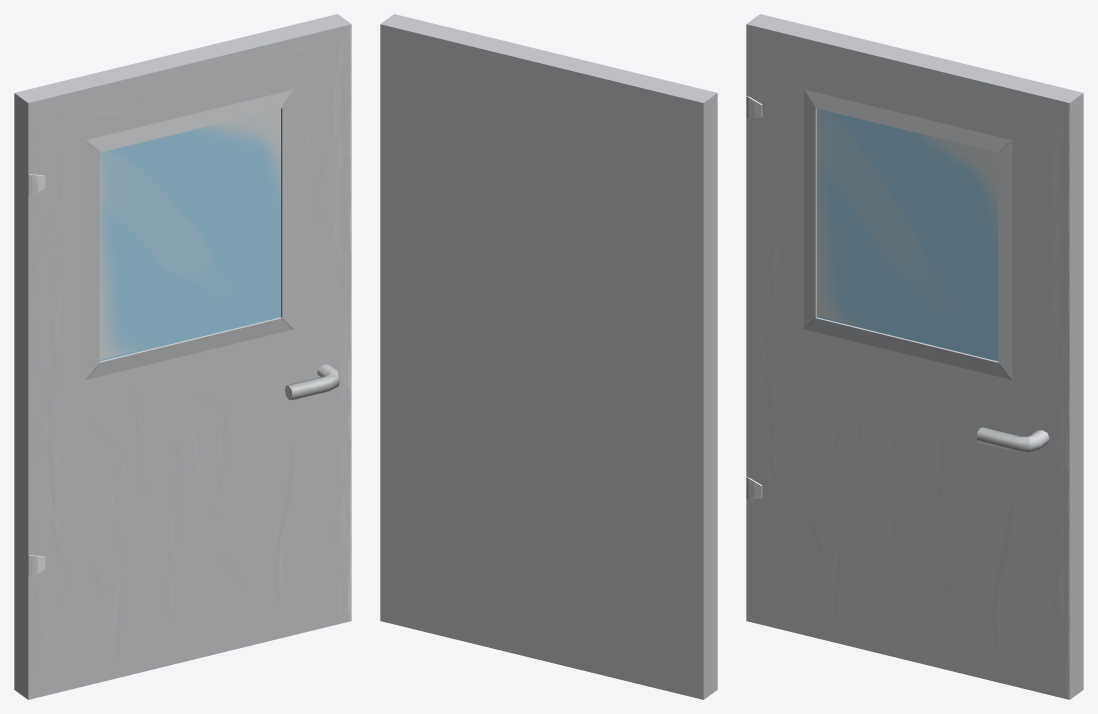
Rendered from industrial door.fbx.
3 views of the same model, side by side, from view 1: azimuth 30°, elevation 25°; view 2: azimuth 150°, elevation 25°; view 3: azimuth 330°, elevation 25° (orthographic).
Visible parts, largest first — view 1: pCube11; view 2: pCube11; view 3: pCube11.
Boxes of the visible parts, x1,y1,x2,y2 form: pCube11: [14, 14, 351, 699]; pCube11: [380, 14, 717, 699]; pCube11: [746, 14, 1083, 699].
Bounding box in the file's own units: 1.36 × 2.4 × 0.2258.
